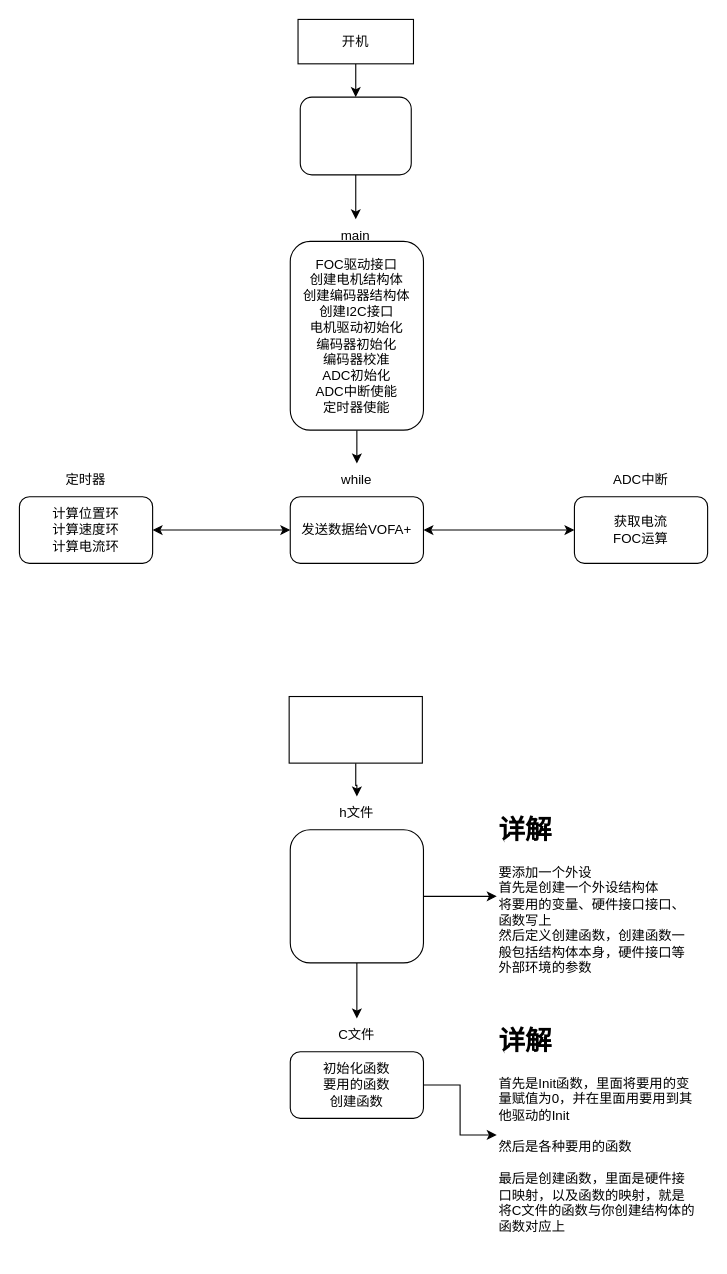
Some shapes in this 727 by 1274 pixel diagram are drawn without their labels. The shapes that lost their labels are listed below. From the top down, each one's centre as x and y in pixels, then its label:
the point at 355,135: 变量定义 芯片外设初始化 PWM函数映射
the point at 355,729: 添加外设
the point at 356,896: 头定义结构体 结构体定义（ 其他驱动外设 要用的变量 接口映射 函数定义） 定义创建函数
